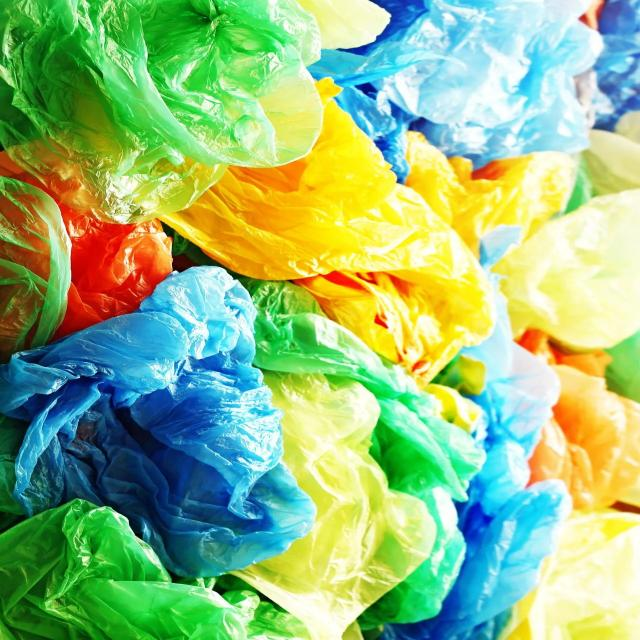Single-layer Plastic: (163, 80, 493, 385), (2, 268, 315, 576), (246, 280, 486, 610), (2, 0, 322, 224), (309, 0, 640, 178), (232, 370, 437, 640), (0, 500, 309, 640), (0, 159, 172, 361), (495, 190, 639, 350), (519, 329, 639, 510), (407, 131, 576, 254), (501, 509, 639, 639)
